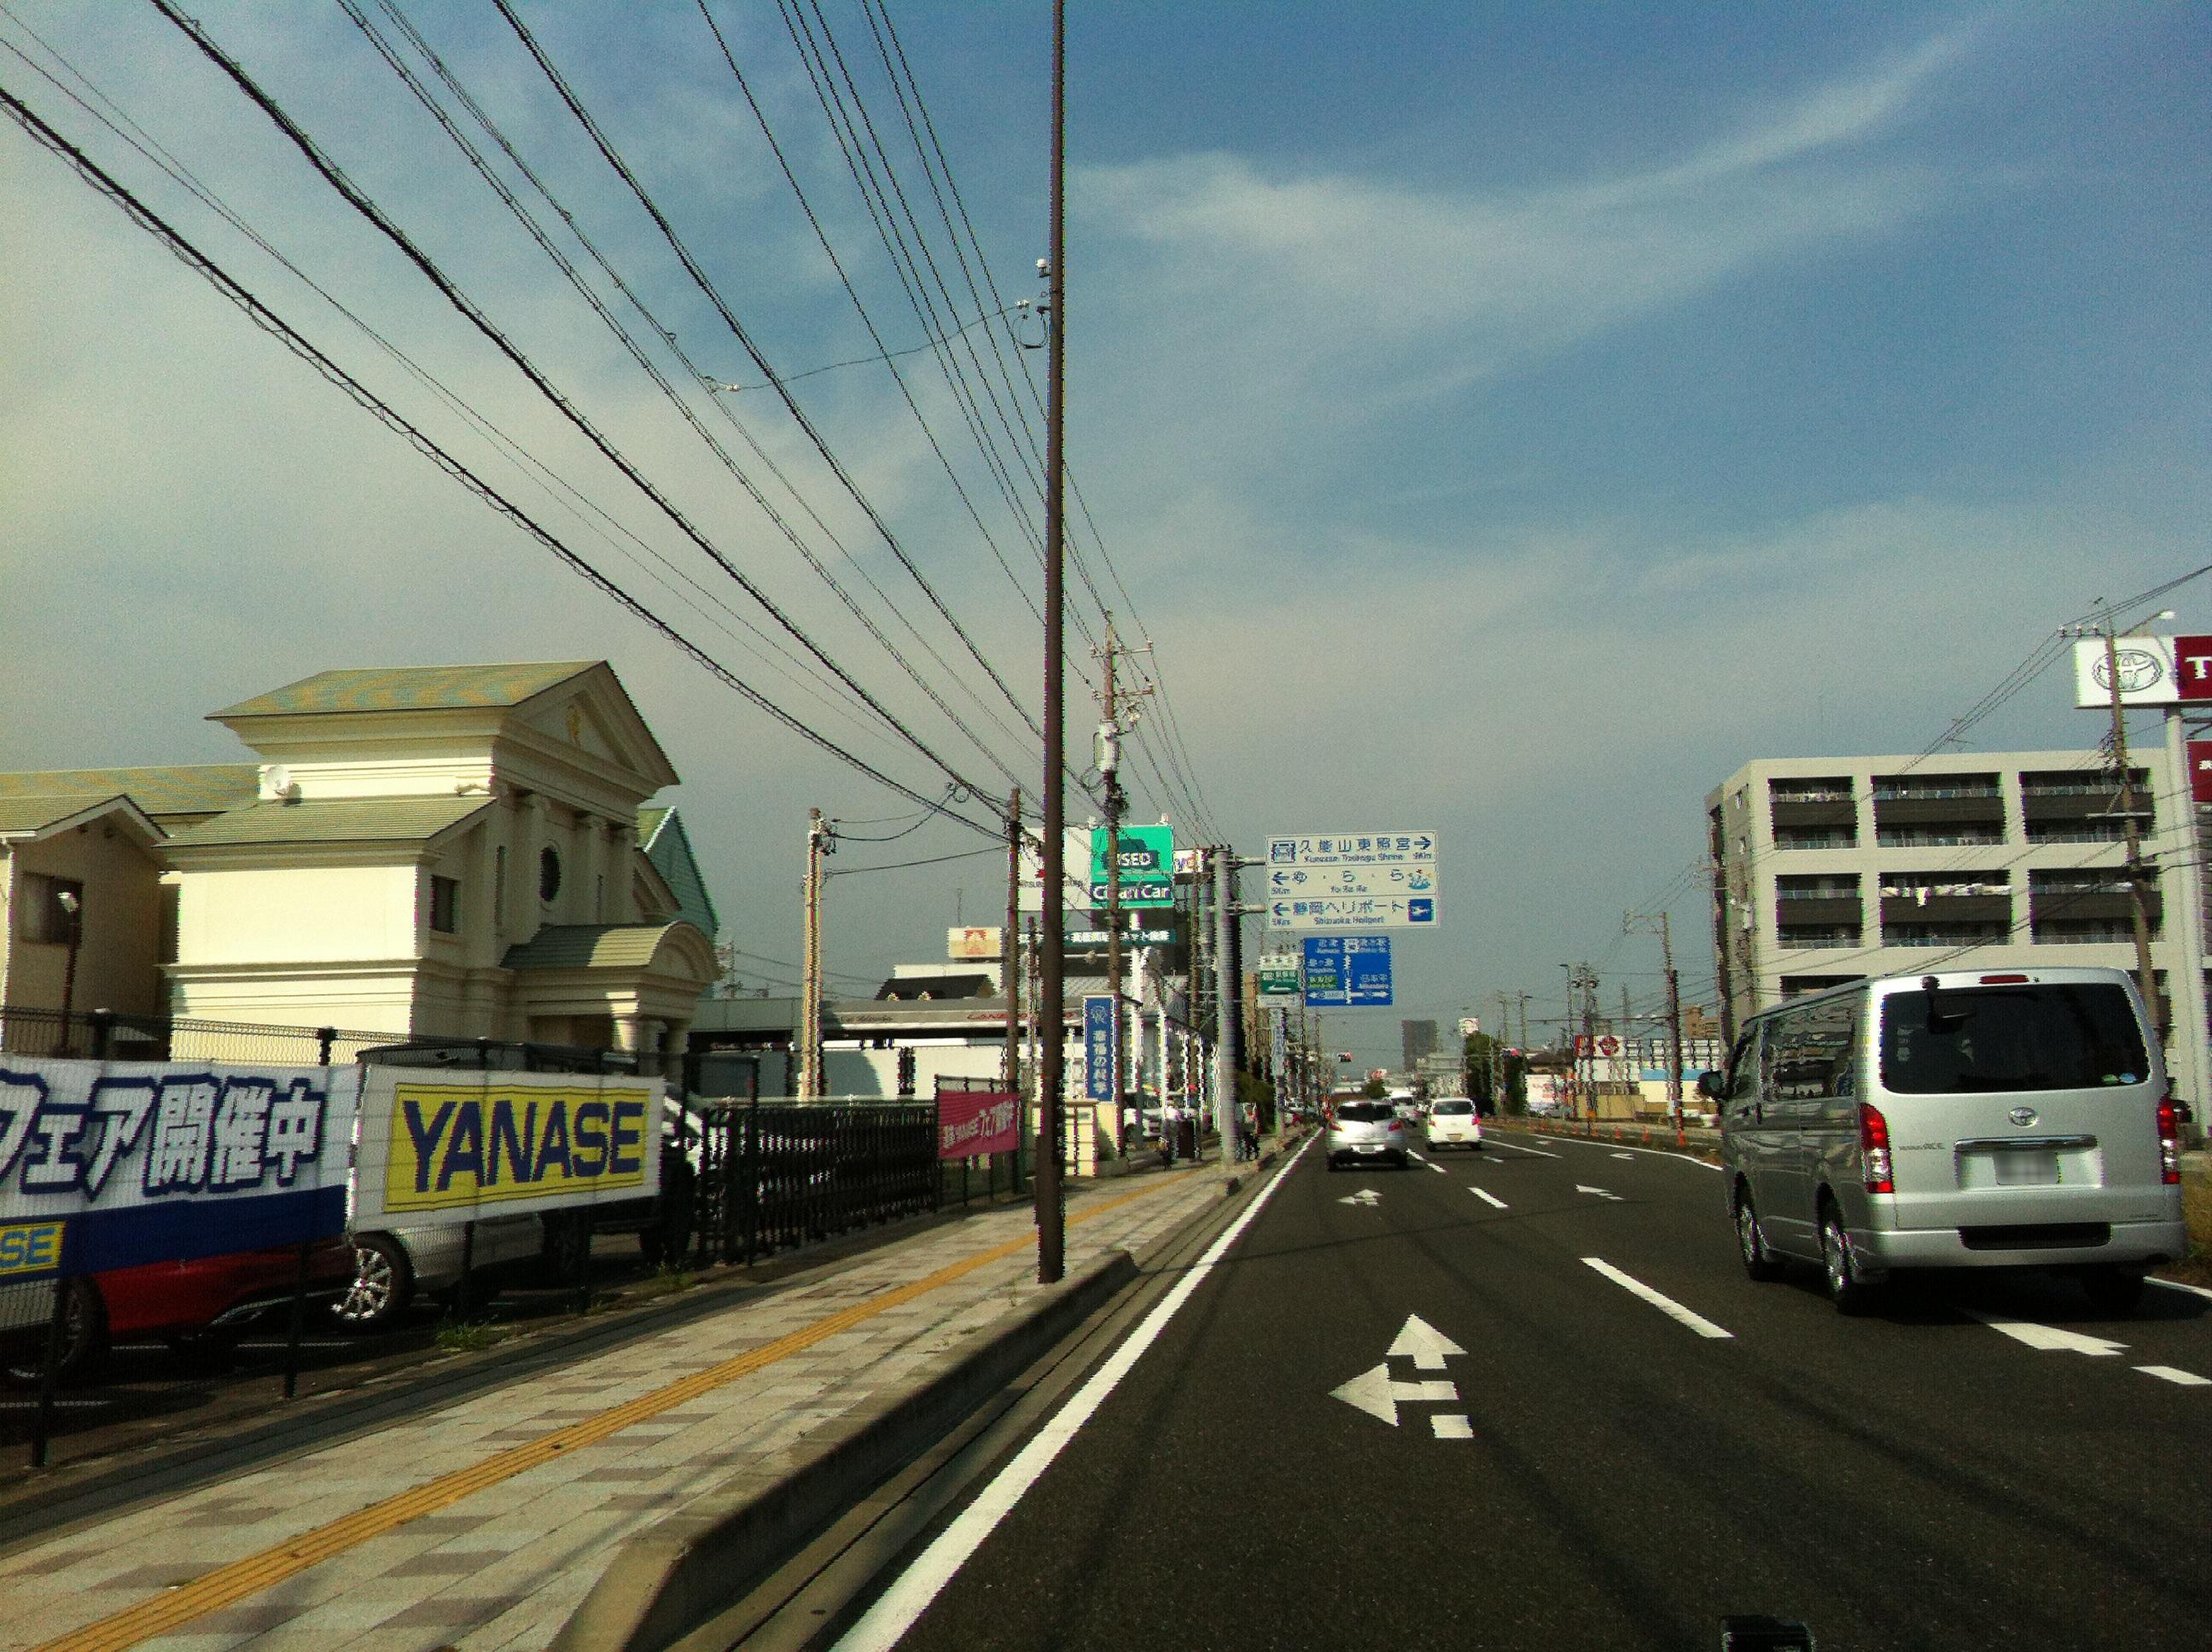vinyl banner: (3, 1039, 363, 1296), (359, 1036, 682, 1227), (933, 1083, 1029, 1164)
